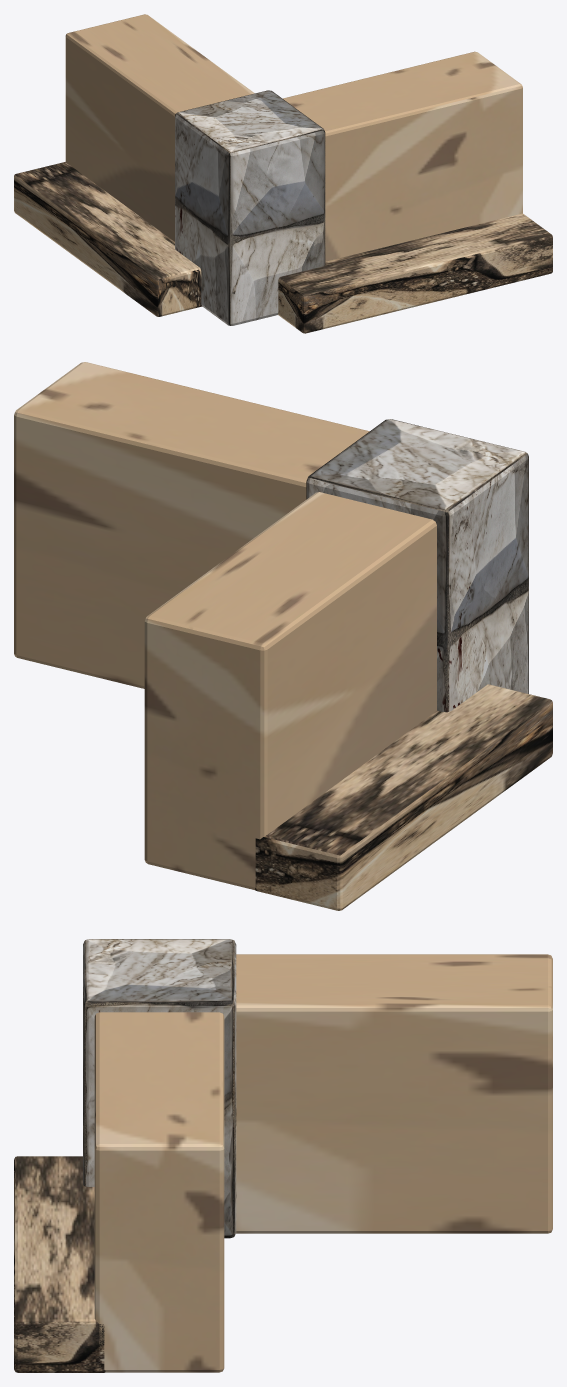
The model's file is parapet_combat_corner_outer_LOD1.glb.
3 renders of one model, top to bottom at view 1: azimuth 30°, elevation 25°; view 2: azimuth 150°, elevation 25°; view 3: azimuth 270°, elevation 25°, orthographic. The views are drawn at different scales.
Visible parts, largest first — view 1: LOD1_XWall, LOD1_Corner, LOD1_YWall, LOD1_XStep, LOD1_YStep; view 2: LOD1_YWall, LOD1_XWall, LOD1_Corner, LOD1_YStep; view 3: LOD1_YWall, LOD1_XWall, LOD1_XStep, LOD1_Corner.
Boxes of the visible parts, box(x1,y1,x2,y2) form: LOD1_XWall: box(283, 51, 522, 261); LOD1_Corner: box(175, 90, 325, 325); LOD1_YWall: box(65, 14, 254, 241); LOD1_XStep: box(278, 213, 552, 333); LOD1_YStep: box(14, 162, 201, 316); LOD1_YWall: box(144, 492, 436, 889); LOD1_XWall: box(14, 362, 369, 688); LOD1_Corner: box(306, 419, 528, 712); LOD1_YStep: box(255, 684, 552, 910); LOD1_YWall: box(236, 954, 552, 1233); LOD1_XWall: box(94, 1012, 224, 1372); LOD1_XStep: box(14, 1156, 105, 1372); LOD1_Corner: box(83, 939, 236, 1238).
Bounding box in the file's own units: 2.74 × 1.34 × 2.74.
Materials: 3 (3 with a texture image).
